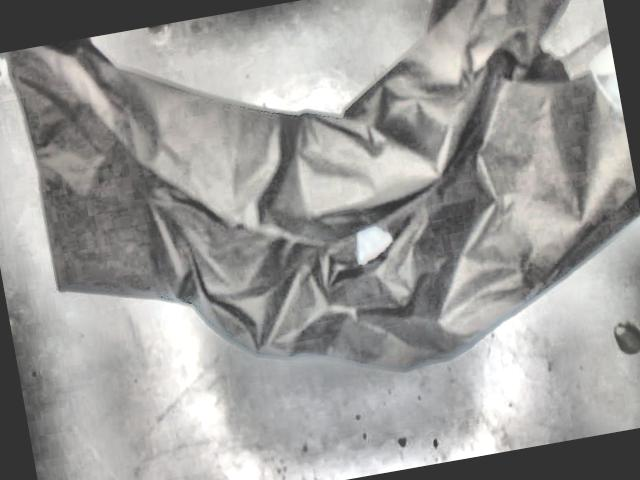Paper: (7, 0, 640, 439)
